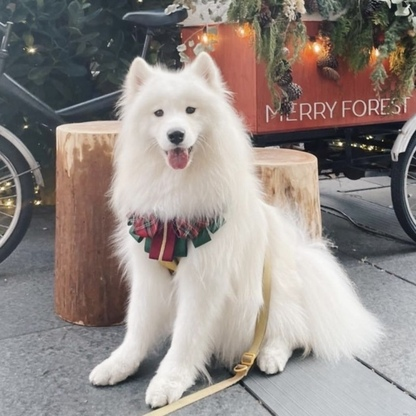samoyed: (84, 47, 395, 408)
